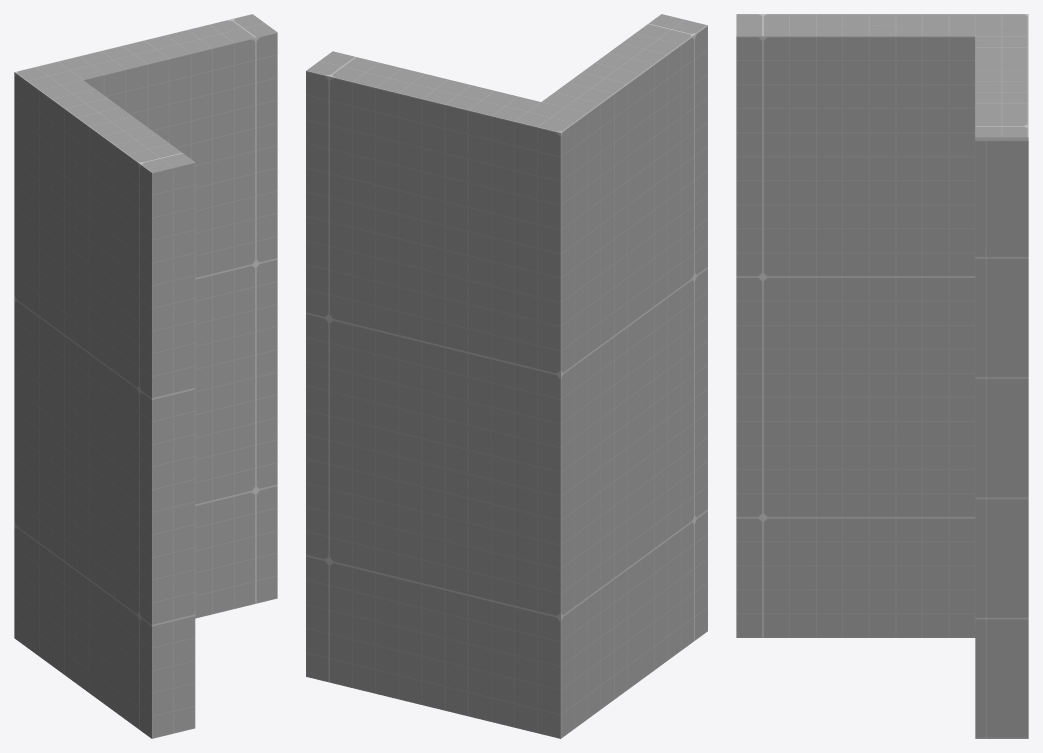
Rendered from Corner_1x1.001.fbx.
3 renders of one model, left to right at view 1: azimuth 30°, elevation 25°; view 2: azimuth 150°, elevation 25°; view 3: azimuth 270°, elevation 25°, orthographic. The views are drawn at different scales.
Parts seen in each view (by area): view 1: Corner_1x1.001; view 2: Corner_1x1.001; view 3: Corner_1x1.001.
Part boxes in pixels (x1,y1,x2,y2): Corner_1x1.001: (14, 14, 277, 738); Corner_1x1.001: (306, 14, 707, 738); Corner_1x1.001: (736, 14, 1028, 738).
Bounding box in the file's own units: 110 × 250 × 110.
